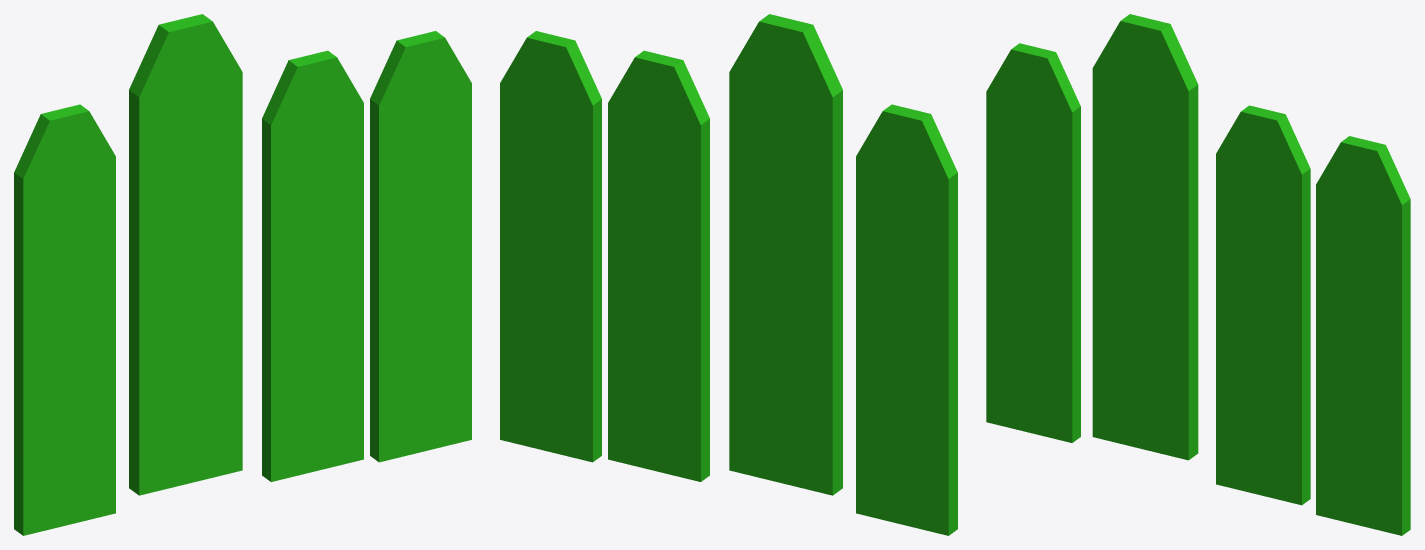
The model's file is Herbe.fbx.
3 renders of one model, left to right at view 1: azimuth 30°, elevation 25°; view 2: azimuth 150°, elevation 25°; view 3: azimuth 330°, elevation 25°, orthographic. The views are drawn at different scales.
Parts seen in each view (by area): view 1: Herbe; view 2: Herbe; view 3: Herbe.
Part boxes in pixels (left/top/right/bottom): Herbe: left=14, top=14, right=471, bottom=535; Herbe: left=500, top=14, right=957, bottom=535; Herbe: left=986, top=14, right=1410, bottom=535.
Size of the model in its own units: 170 by 175 by 6.8.
